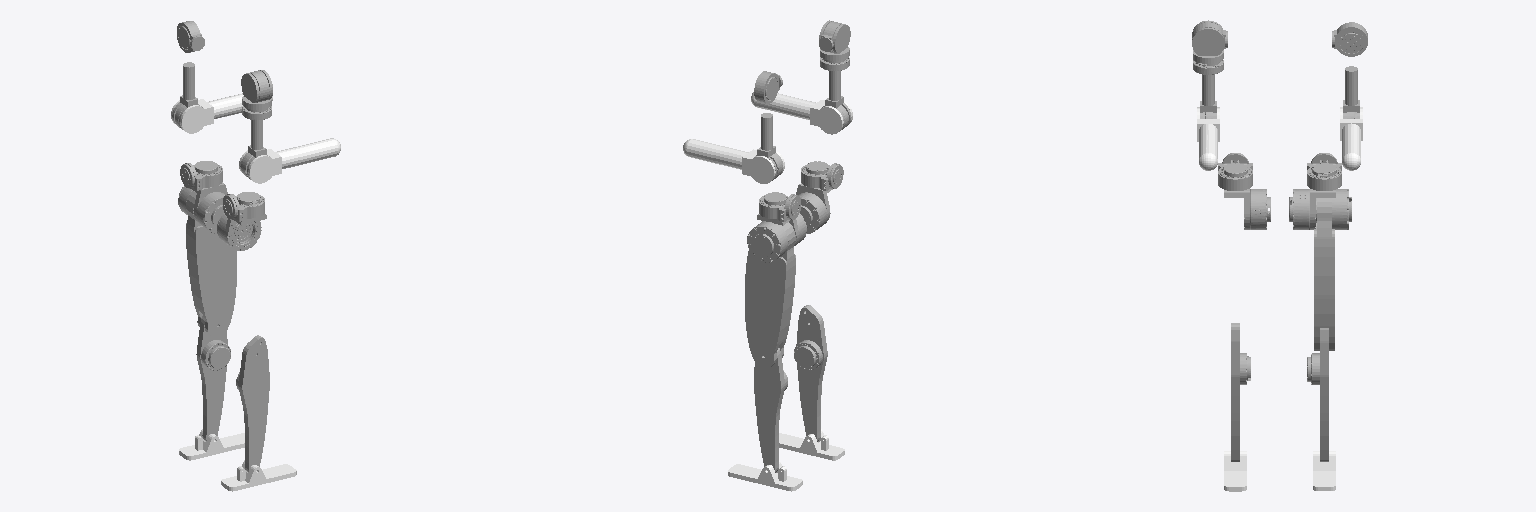
URDF robot description (gh1_description):
<?xml version="1.0" encoding="utf-8"?>
<!-- This URDF was automatically created by SolidWorks to URDF Exporter! Originally created by
[author] ([email redacted]) 
     Commit Version: 1.5.1-0-g916b5db  Build Version: 1.5.7152.31018
     For more information, please see http://wiki.ros.org/sw_urdf_exporter -->
<robot
  name="gh1_description">
  <link name="base">
    <visual>
      <origin rpy="0 0 0" xyz="0 0 0" />
      <geometry>
        <box size="0.001 0.001 0.001" />
      </geometry>
    </visual>
  </link>
  <joint name="floating_base" type="fixed">
    <origin rpy="0 0 0" xyz="0 0 0" />
    <parent link="base" />
    <child link="body" />
  </joint>
  <link name="body">
    <inertial>
      <origin xyz="-0.0088989 -1.3208E-07 0.16344" rpy="0 0 0" />
      <mass value="123.52" />
      <inertia ixx="1.6862" ixy="1.545E-07" ixz="-5.5846E-05" iyy="1.1047" iyz="1.791E-06"
        izz="0.89583" />
    </inertial>
    <visual>
      <origin xyz="0 0 0" rpy="0 0 0" />
      <geometry>
        <mesh filename="../meshes/body.dae" />
      </geometry>
      <material name="">
        <color rgba="0.75294 0.75294 0.75294 1" />
      </material>
    </visual>
    <collision>
      <origin xyz="0 0 0.175" rpy="0 0 0" />
      <geometry> <!-- <mesh filename="../meshes/body.dae" /> -->
        <box size="0.130 0.3 0.35" />
      </geometry>
    </collision>
  </link>
  <link
    name="Left_hip_roll_Link">
    <inertial>
      <origin xyz="0.052165 5.0264E-06 -0.0083836" rpy="0 0 0" />
      <mass value="3.8235" />
      <inertia ixx="0.0033964" ixy="-8.4167E-07" ixz="7.7293E-05" iyy="0.0030826" iyz="6.9531E-08"
        izz="0.0051879" />
    </inertial>
    <visual>
      <origin xyz="0 0 0" rpy="0 0 0" />
      <geometry>
        <mesh filename="../meshes/Left_hip_roll_Link.dae" />
      </geometry>
      <material name="">
        <color rgba="0.75294 0.75294 0.75294 1" />
      </material>
    </visual>
    <collision>
      <origin xyz="0 0 0" rpy="0 0 0" />
      <geometry>
        <!-- <mesh filename="../meshes/Left_hip_roll_Link.dae" /> -->
        <cylinder radius="0.02" length="0.01" />
      </geometry>
    </collision>
  </link>
  <joint
    name="Left_hip_roll_Joint"
    type="revolute">
    <origin
      xyz="-0.054 0.135 -0.17"
      rpy="0 0 0" />
    <parent
      link="body" />
    <child
      link="Left_hip_roll_Link" />
    <axis
      xyz="-1 0 0" />
    <limit
      lower="-3.14"
      upper="3.14"
      effort="50"
      velocity="20" />
  </joint>
  <link
    name="Left_hip_yaw_Link">
    <inertial>
      <origin xyz="-3.1213E-06 -0.05153 -0.072845" rpy="0 0 0" />
      <mass value="6.7642" />
      <inertia ixx="0.010476" ixy="-2.589E-08" ixz="3.2644E-06" iyy="0.015391" iyz="-0.0012055"
        izz="0.0086185" />
    </inertial>
    <visual>
      <origin xyz="0 0 0" rpy="0 0 0" />
      <geometry>
        <mesh filename="../meshes/Left_hip_yaw_Link.dae" />
      </geometry>
      <material name="">
        <color rgba="0.75294 0.75294 0.75294 1" />
      </material>
    </visual>
    <collision>
      <origin xyz="0 0 0" rpy="0 0 0" />
      <geometry>
        <cylinder radius="0.02" length="0.01" />
        <!-- <mesh filename="../meshes/Left_hip_yaw_Link.dae" /> -->
      </geometry>
    </collision>
  </link>
  <joint
    name="Left_hip_yaw_Joint"
    type="revolute">
    <origin
      xyz="0.07 0 -0.03"
      rpy="0 0 0" />
    <parent link="Left_hip_roll_Link" />
    <child link="Left_hip_yaw_Link" />
    <axis xyz="0 0 1" />
    <limit
      lower="-3.14"
      upper="3.14"
      effort="50"
      velocity="20" />
  </joint>
  <link name="Left_hip_pitch_Link">
    <inertial>
      <origin xyz="0.01638 0.034971 -0.15945" rpy="0 0 0" />
      <mass value="33.931" />
      <inertia ixx="0.49131" ixy="-0.00037862" ixz="0.031514" iyy="0.52963" iyz="0.0036852"
        izz="0.060423" />
    </inertial>
    <visual>
      <origin xyz="0 0 0" rpy="0 0 0" />
      <geometry>
        <mesh filename="../meshes/Left_hip_pitch_Link.dae" />
      </geometry>
      <material name="">
        <color rgba="0.75294 0.75294 0.75294 1" />
      </material>
    </visual>
    <collision>
      <origin xyz="0 0.03 -0.2" rpy="0 0 0" />
      <geometry>
        <!-- <mesh filename="../meshes/Left_hip_pitch_Link.dae" /> -->
        <cylinder radius="0.04" length="0.32" />
      </geometry>
    </collision>
  </link>
  <joint name="Left_hip_pitch_Joint" type="revolute">
    <origin xyz="0 -0.0295 -0.087" rpy="0 0 0" />
    <parent link="Left_hip_yaw_Link" />
    <child link="Left_hip_pitch_Link" />
    <axis xyz="0 -1 0" />
    <limit lower="-3.14" upper="3.14" effort="50" velocity="20" />
  </joint>
  <link name="Left_knee_Link">
    <inertial>
      <origin xyz="-0.0017679 -0.005401 -0.15125" rpy="0 0 0" />
      <mass value="7.7671" />
      <inertia ixx="0.095227" ixy="8.8977E-06" ixz="-0.0015087" iyy="0.098977" iyz="-0.0002576"
        izz="0.0046432" />
    </inertial>
    <visual>
      <origin xyz="0 0 0" rpy="0 0 0" />
      <geometry>
        <mesh filename="../meshes/Left_knee_Link.dae" />
      </geometry>
      <material name="">
        <color rgba="0.75294 0.75294 0.75294 1" />
      </material>
    </visual>
    <collision>
      <origin xyz="0 0 -0.2" rpy="0 0 0" />
      <geometry>
        <!-- <mesh filename="../meshes/Left_knee_Link.dae" /> -->
        <cylinder radius="0.02" length="0.3" />
      </geometry>
    </collision>
  </link>
  <joint name="Left_knee_Joint" type="revolute">
    <origin xyz="0.025372 0.0295 -0.41923" rpy="0 0 0" />
    <parent link="Left_hip_pitch_Link" />
    <child link="Left_knee_Link" />
    <axis xyz="0 -1 0" />
    <limit lower="-3.14" upper="3.14" effort="50" velocity="20" />
  </joint>
  <link name="Left_ankle_pitch_Link">
    <inertial>
      <origin xyz="0.015007 5.5511E-17 -0.034161" rpy="0 0 0" />
      <mass value="0.38818" />
      <inertia ixx="0.00024191" ixy="4.7254E-20" ixz="6.7735E-05" iyy="0.0015331" iyz="-1.2705E-20"
        izz="0.0016128" />
    </inertial>
    <visual>
      <origin xyz="0 0 0" rpy="0 0 0" />
      <geometry>
        <mesh filename="../meshes/Left_ankle_pitch_Link.dae" />
      </geometry>
      <material name="">
        <color rgba="1 1 1 1" />
      </material>
    </visual>
    <collision>
      <origin xyz="0.026 0 -0.042" rpy="0 0 0" />
      <geometry>
        <!-- <mesh filename="../meshes/Left_ankle_pitch_Link.dae" /> -->
        <box size="0.25 0.07 0.015" />
      </geometry>
    </collision>
  </link>
  <joint name="Left_ankle_pitch_Joint" type="revolute">
    <origin xyz="-0.012762 0 -0.3998" rpy="0 0 0" />
    <parent link="Left_knee_Link" />
    <child link="Left_ankle_pitch_Link" />
    <axis xyz="0 -1 0" />
    <limit lower="-3.14" upper="3.14" effort="50" velocity="20" />
  </joint>
  <link name="Right_hip_roll_Link">
    <inertial>
      <origin xyz="0.051787 4.9935E-05 -0.0078632" rpy="0 0 0" />
      <mass value="3.7336" />
      <inertia ixx="0.0033514" ixy="2.1818E-07" ixz="7.7728E-05" iyy="0.0030497" iyz="4.1278E-07"
        izz="0.005111" />
    </inertial>
    <visual>
      <origin xyz="0 0 0" rpy="0 0 0" />
      <geometry>
        <mesh filename="../meshes/Right_hip_roll_Link.dae" />
      </geometry>
      <material name="">
        <color rgba="0.75294 0.75294 0.75294 1" />
      </material>
    </visual>
    <collision>
      <origin xyz="0 0 0" rpy="0 0 0" />
      <geometry>
        <!-- <mesh filename="../meshes/Right_hip_roll_Link.dae" /> -->
        <cylinder radius="0.02" length="0.01" />
      </geometry>
    </collision>
  </link>
  <joint name="Right_hip_roll_Joint" type="revolute">
    <origin xyz="-0.054 -0.135 -0.17" rpy="0 0 0" />
    <parent link="body" />
    <child link="Right_hip_roll_Link" />
    <axis xyz="-1 0 0" />
    <limit lower="-3.14" upper="3.14" effort="50" velocity="20" />
  </joint>
  <link
    name="Right_hip_yaw_Link">
    <inertial>
      <origin xyz="-5.8987E-06 0.051084 -0.073371" rpy="0 0 0" />
      <mass value="6.9007" />
      <inertia ixx="0.010615" ixy="5.2209E-08" ixz="2.3171E-06" iyy="0.015657" iyz="0.0012055"
        izz="0.0087469" />
    </inertial>
    <visual>
      <origin xyz="0 0 0" rpy="0 0 0" />
      <geometry>
        <mesh filename="../meshes/Right_hip_yaw_Link.dae" />
      </geometry>
      <material name="">
        <color rgba="0.75294 0.75294 0.75294 1" />
      </material>
    </visual>
    <collision>
      <origin xyz="0 0 0" rpy="0 0 0" />
      <geometry>
        <cylinder radius="0.02" length="0.01" />
        <!-- <mesh filename="../meshes/Right_hip_yaw_Link.dae" /> -->
      </geometry>
    </collision>
  </link>
  <joint name="Right_hip_yaw_Joint" type="revolute">
    <origin xyz="0.07 0 -0.02975" rpy="0 0 0" />
    <parent link="Right_hip_roll_Link" />
    <child link="Right_hip_yaw_Link" />
    <axis xyz="0 0 -1" />
    <limit lower="-3.14" upper="3.14" effort="50" velocity="20" />
  </joint>
  <link
    name="Right_hip_pitch_Link">
    <inertial>
      <origin xyz="0.015706 -0.03447 -0.15952" rpy="0 0 0" />
      <mass value="33.93" />
      <inertia ixx="0.49156" ixy="0.00036304" ixz="0.029708" iyy="0.52963" iyz="-0.0036869"
        izz="0.060165" />
    </inertial>
    <visual>
      <origin xyz="0 0 0" rpy="0 0 0" />
      <geometry>
        <mesh filename="../meshes/Right_hip_pitch_Link.dae" />
      </geometry>
      <material name="">
        <color rgba="0.75294 0.75294 0.75294 1" />
      </material>
    </visual>
    <collision>
      <origin xyz="0 -0.03 -0.2" rpy="0 0 0" />
      <geometry>
        <!-- <mesh filename="../meshes/Left_hip_pitch_Link.dae" /> -->
        <cylinder radius="0.04" length="0.32" />
      </geometry>
    </collision>
  </link>
  <joint name="Right_hip_pitch_Joint" type="revolute">
    <origin xyz="0 0.029 -0.08725" rpy="0 0 0" />
    <parent link="Right_hip_yaw_Link" />
    <child link="Right_hip_pitch_Link" />
    <axis xyz="0 1 0" />
    <limit lower="-3.14" upper="3.14" effort="50" velocity="20" />
  </joint>
  <link name="Right_knee_Link">
    <inertial>
      <origin xyz="-0.00099117 0.0042483 -0.15105" rpy="0 0 0" />
      <mass value="7.7671" />
      <inertia ixx="0.095252" ixy="-1.0707E-05" ixz="-0.0010377" iyy="0.098988" iyz="0.00025675"
        izz="0.0046277" />
    </inertial>
    <visual>
      <origin xyz="0 0 0" rpy="0 0 0" />
      <geometry>
        <mesh filename="../meshes/Right_knee_Link.dae" />
      </geometry>
      <material name="">
        <color rgba="0.75294 0.75294 0.75294 1" />
      </material>
    </visual>
    <collision>
      <origin xyz="0 0 -0.2" rpy="0 0 0" />
      <geometry>
        <cylinder radius="0.02" length="0.3" />
        <!-- <mesh filename="../meshes/Right_knee_Link.dae" /> -->
      </geometry>
    </collision>
  </link>
  <joint name="Right_knee_Joint" type="revolute">
    <origin xyz="0.023604 -0.029 -0.41934" rpy="0 0 0" />
    <parent link="Right_hip_pitch_Link" />
    <child link="Right_knee_Link" />
    <axis xyz="0 -1 0" />
    <limit lower="-3.14" upper="3.14" effort="50" velocity="20" />
  </joint>
  <link name="Right_ankle_pitch_Link">
    <inertial>
      <origin xyz="0.015007 -4.1616E-15 -0.034161" rpy="0 0 0" />
      <mass value="0.38818" />
      <inertia ixx="0.00024191" ixy="-1.9066E-19" ixz="6.7735E-05" iyy="0.0015331" iyz="-1.3234E-20"
        izz="0.0016128" />
    </inertial>
    <visual>
      <origin xyz="0 0 0" rpy="0 0 0" />
      <geometry>
        <mesh filename="../meshes/Right_ankle_pitch_Link.dae" />
      </geometry>
      <material name="">
        <color rgba="1 1 1 1" />
      </material>
    </visual>
    <collision>
      <origin xyz="0.026 0 -0.042" rpy="0 0 0" />
      <geometry>
        <!-- <mesh filename="../meshes/Left_ankle_pitch_Link.dae" /> -->
        <box size="0.25 0.07 0.015" />
      </geometry>
    </collision>
  </link>
  <joint name="Right_ankle_pitch_Joint" type="revolute">
    <origin xyz="-0.010661 0 -0.39986" rpy="0 0 0" />
    <parent link="Right_knee_Link" />
    <child link="Right_ankle_pitch_Link" />
    <axis xyz="0 -1 0" />
    <limit lower="-3.14" upper="3.14" effort="50" velocity="20" />
  </joint>
  <link name="Left_shoulder_pitch_Link">
    <inertial>
      <origin xyz="0.0021111 0.058287 7.4495E-05" rpy="0 0 0" />
      <mass value="2.3981" />
      <inertia ixx="0.0036404" ixy="-1.2323E-07" ixz="-4.1293E-07" iyy="0.0017935" iyz="1.7725E-06"
        izz="0.0022023" />
    </inertial>
    <visual>
      <origin xyz="0 0 0" rpy="0 0 0" />
      <geometry>
        <mesh filename="../meshes/Left_shoulder_pitch_Link.dae" />
      </geometry>
      <material name="">
        <color rgba="0.75294 0.75294 0.75294 1" />
      </material>
    </visual>
    <collision>
      <origin xyz="0 0.062 0" rpy="0 1.57 0" />
      <geometry>
        <!-- <mesh filename="../meshes/Right_shoulder_pitch_Link.dae" /> -->
        <cylinder radius="0.05" length="0.0372" />
      </geometry>
    </collision>
  </link>
  <joint name="Left_shoulder_pitch_Joint" type="revolute">
    <origin
      xyz="0 0.155 0.275"
      rpy="0 0 0" />
    <parent
      link="body" />
    <child
      link="Left_shoulder_pitch_Link" />
    <axis
      xyz="0 1 0" />
    <limit lower="-3.14" upper="3.14" effort="50" velocity="20" />
  </joint>
  <link name="Left_shoulder_roll_Link">
    <inertial>
      <origin xyz="-0.016456 -2.2787E-05 -0.046307" rpy="0 0 0" />
      <mass value="3.8443" />
      <inertia ixx="0.0045757" ixy="-2.5873E-06" ixz="3.7349E-07" iyy="0.0045261" iyz="-2.1496E-07"
        izz="0.0044269" />
    </inertial>
    <visual>
      <origin xyz="0 0 0" rpy="0 0 0" />
      <geometry>
        <mesh filename="../meshes/Left_shoulder_roll_Link.dae" />
      </geometry>
      <material name="">
        <color rgba="0.75294 0.75294 0.75294 1" />
      </material>
    </visual>
    <collision>
      <origin xyz="-0.016 0 -0.07" rpy="0 0 0" />
      <geometry>
        <!-- <mesh filename="../meshes/Right_shoulder_roll_Link.dae" /> -->
        <cylinder radius="0.049" length="0.05" />
      </geometry>
    </collision>
  </link>
  <joint name="Left_shoulder_roll_Joint" type="revolute">
    <origin xyz="0.0165 0.0625 0" rpy="0 0 0" />
    <parent link="Left_shoulder_pitch_Link" />
    <child link="Left_shoulder_roll_Link" />
    <axis
      xyz="1 0 0" />
    <limit
      lower="-3.14"
      upper="3.14"
      effort="50"
      velocity="20" />
  </joint>
  <link
    name="Left_shoulder_yaw_Link">
    <inertial>
      <origin xyz="-5.7035E-05 -0.00091634 -0.13346" rpy="0 0 0" />
      <mass value="3.172" />
      <inertia ixx="0.0068554" ixy="-4.0763E-07" ixz="1.7853E-06" iyy="0.0077293" iyz="-1.3975E-07"
        izz="0.0016253" />
    </inertial>
    <visual>
      <origin xyz="0 0 0" rpy="0 0 0" />
      <geometry>
        <mesh filename="../meshes/Left_shoulder_yaw_Link.dae" />
      </geometry>
      <material name="">
        <color rgba="0.75294 0.75294 0.75294 1" />
      </material>
    </visual>
    <collision>
      <origin xyz="0 0 -0.059" rpy="0 0 0" />
      <geometry>
        <cylinder radius="0.02" length="0.1" />
        <!-- <mesh filename="../meshes/Right_shoulder_yaw_Link.dae" /> -->
      </geometry>
    </collision>
  </link>
  <joint name="Left_shoulder_yaw_Joint" type="revolute">
    <origin xyz="-0.0165 0 -0.0965" rpy="0 0 0" />
    <parent link="Left_shoulder_roll_Link" />
    <child link="Left_shoulder_yaw_Link" />
    <axis xyz="0 0 1" />
    <limit lower="-3.14" upper="3.14" effort="50" velocity="20" />
  </joint>
  <link name="Left_elbow_pitch_Link">
    <inertial>
      <origin xyz="0.13853 0.015001 2.9055E-08" rpy="0 0 0" />
      <mass value="0.88449" />
      <inertia ixx="0.00056951" ixy="-6.3677E-08" ixz="-2.8529E-09" iyy="0.0077194"
        iyz="-2.6888E-10" izz="0.0077768" />
    </inertial>
    <visual>
      <origin xyz="0 0 0" rpy="0 0 0" />
      <geometry>
        <mesh filename="../meshes/Left_elbow_pitch_Link.dae" />
      </geometry>
      <material name="">
        <color rgba="1 1 1 1" />
      </material>
    </visual>
    <collision>
      <origin xyz="0.17 0.015 0" rpy="0 1.57 0" />
      <geometry>
        <!-- <mesh filename="../meshes/Right_elbow_pitch_Link.dae" /> -->
        <cylinder radius="0.032" length="0.01" />
      </geometry>
    </collision>
  </link>
  <joint name="Left_elbow_pitch_Joint" type="revolute">
    <origin
      xyz="0 -0.015 -0.182"
      rpy="0 0 0" />
    <parent link="Left_shoulder_yaw_Link" />
    <child link="Left_elbow_pitch_Link" />
    <axis xyz="0 1 0" />
    <limit lower="-3.14" upper="3.14" effort="50" velocity="20" />
  </joint>
  <link name="Right_shoulder_pitch_Link">
    <inertial>
      <origin xyz="0.0021111 -0.05828 7.6437E-05" rpy="0 0 0" />
      <mass value="2.3981" />
      <inertia ixx="0.0036404" ixy="1.2004E-07" ixz="-4.1386E-07" iyy="0.0017933" iyz="-1.539E-06"
        izz="0.0022024" />
    </inertial>
    <visual>
      <origin xyz="0 0 0" rpy="0 0 0" />
      <geometry>
        <mesh filename="../meshes/Right_shoulder_pitch_Link.dae" />
      </geometry>
      <material name="">
        <color rgba="0.75294 0.75294 0.75294 1" />
      </material>
    </visual>
    <collision>
      <origin xyz="0 -0.062 0" rpy="0 1.57 0" />
      <geometry>
        <!-- <mesh filename="../meshes/Right_shoulder_pitch_Link.dae" /> -->
        <cylinder radius="0.05" length="0.0372" />
      </geometry>
    </collision>
  </link>
  <joint name="Right_shoulder_pitch_Joint" type="revolute">
    <origin xyz="0 -0.155 0.275" rpy="0 0 0" />
    <parent link="body" />
    <child link="Right_shoulder_pitch_Link" />
    <axis xyz="0 1 0" />
    <limit lower="-3.14" upper="3.14" effort="50" velocity="20" />
  </joint>
  <link name="Right_shoulder_roll_Link">
    <inertial>
      <origin xyz="-0.016543 2.4614E-05 -0.046307" rpy="0 0 0" />
      <mass value="3.8443" />
      <inertia ixx="0.0045755" ixy="-2.7168E-06" ixz="-3.6402E-07" iyy="0.0045264" iyz="2.3062E-07"
        izz="0.0044269" />
    </inertial>
    <visual>
      <origin xyz="0 0 0" rpy="0 0 0" />
      <geometry>
        <mesh filename="../meshes/Right_shoulder_roll_Link.dae" />
      </geometry>
      <material name="">
        <color rgba="0.75294 0.75294 0.75294 1" />
      </material>
    </visual>
    <collision>
      <origin xyz="-0.016 0 -0.07" rpy="0 0 0" />
      <geometry>
        <!-- <mesh filename="../meshes/Right_shoulder_roll_Link.dae" /> -->
        <cylinder radius="0.049" length="0.05" />
      </geometry>
    </collision>
  </link>
  <joint
    name="Right_shoulder_roll_Joint"
    type="revolute">
    <origin
      xyz="0.0165 -0.0625 0" rpy="0 0 0" />
    <parent link="Right_shoulder_pitch_Link" />
    <child link="Right_shoulder_roll_Link" />
    <axis
      xyz="-1 0 0" />
    <limit
      lower="-3.14"
      upper="3.14"
      effort="50"
      velocity="20" />
  </joint>
  <link
    name="Right_shoulder_yaw_Link">
    <inertial>
      <origin xyz="3.2291E-05 0.00091635 -0.13399" rpy="0 0 0" />
      <mass value="3.172" />
      <inertia ixx="0.0068516" ixy="-2.1917E-07" ixz="-2.7345E-06" iyy="0.0077293" iyz="3.7103E-07"
        izz="0.0016291" />
    </inertial>
    <visual>
      <origin xyz="0 0 0" rpy="0 0 0" />
      <geometry>
        <mesh filename="../meshes/Right_shoulder_yaw_Link.dae" />
      </geometry>
      <material name="">
        <color rgba="0.75294 0.75294 0.75294 1" />
      </material>
    </visual>
    <collision>
      <origin xyz="0 0 -0.059" rpy="0 0 0" />
      <geometry>
        <cylinder radius="0.02" length="0.1" />
        <!-- <mesh filename="../meshes/Right_shoulder_yaw_Link.dae" /> -->
      </geometry>
    </collision>
  </link>
  <joint
    name="Right_shoulder_yaw_Joint"
    type="revolute">
    <origin
      xyz="-0.0165 0 -0.0965"
      rpy="0 0 0" />
    <parent
      link="Right_shoulder_roll_Link" />
    <child
      link="Right_shoulder_yaw_Link" />
    <axis
      xyz="0 0 1" />
    <limit
      lower="-3.14"
      upper="3.14"
      effort="50"
      velocity="20" />
  </joint>
  <link
    name="Right_elbow_pitch_Link">
    <inertial>
      <origin xyz="0.13853 -0.015001 -2.9055E-08" rpy="0 0 0" />
      <mass value="0.88449" />
      <inertia ixx="0.00056951" ixy="6.3677E-08" ixz="2.8529E-09" iyy="0.0077194" iyz="-2.6888E-10"
        izz="0.0077768" />
    </inertial>
    <visual>
      <origin xyz="0 0 0" rpy="0 0 0" />
      <geometry>
        <mesh filename="../meshes/Right_elbow_pitch_Link.dae" />
      </geometry>
      <material name="">
        <color rgba="1 1 1 1" />
      </material>
    </visual>
    <collision>
      <origin xyz="0.17 -0.015 0" rpy="0 1.57 0" />
      <geometry>
        <!-- <mesh filename="../meshes/Right_elbow_pitch_Link.dae" /> -->
        <cylinder radius="0.032" length="0.01" />
      </geometry>
    </collision>
  </link>
  <joint name="Right_elbow_pitch_Joint" type="revolute">
    <origin xyz="0 0.015 -0.1825" rpy="0 0 0" />
    <parent link="Right_shoulder_yaw_Link" />
    <child link="Right_elbow_pitch_Link" />
    <axis xyz="0 -1 0" />
    <limit
      lower="-3.14"
      upper="3.14"
      effort="50"
      velocity="20" />
  </joint>
</robot>

--- Render facts (derived) ---
The picture shows the robot from 3 angles, left to right: view 1: azimuth 30°, elevation 25°; view 2: azimuth 150°, elevation 25°; view 3: azimuth 270°, elevation 25°; orthographic projection.
Model gh1_description with 20 links and 19 joints (18 revolute, 1 fixed), rooted at base, posed all joints at 0.
Visible links, largest first — view 1: Left_hip_pitch_Link, Right_knee_Link, Left_knee_Link, Right_elbow_pitch_Link, Left_elbow_pitch_Link, Right_hip_yaw_Link, Right_ankle_pitch_Link, Left_hip_yaw_Link, Left_ankle_pitch_Link, Right_shoulder_roll_Link, Left_hip_roll_Link, Right_hip_roll_Link (+3 smaller); view 2: Left_hip_pitch_Link, Right_knee_Link, Left_knee_Link, Left_elbow_pitch_Link, Right_elbow_pitch_Link, Left_ankle_pitch_Link, Right_hip_yaw_Link, Right_ankle_pitch_Link, Right_shoulder_roll_Link, Right_hip_roll_Link, Left_hip_roll_Link, Left_shoulder_yaw_Link (+2 smaller); view 3: Left_hip_pitch_Link, Left_knee_Link, Right_knee_Link, Right_shoulder_roll_Link, Left_hip_yaw_Link, Right_hip_yaw_Link, Left_hip_roll_Link, Right_hip_roll_Link, Right_elbow_pitch_Link, Left_elbow_pitch_Link, Left_shoulder_pitch_Link, Right_ankle_pitch_Link (+3 smaller).
Boxes of the visible links, x1,y1,x2,y2 form: Left_hip_pitch_Link: (178, 186, 236, 336); Right_knee_Link: (236, 335, 269, 472); Left_knee_Link: (196, 316, 230, 440); Right_elbow_pitch_Link: (239, 138, 340, 183); Left_elbow_pitch_Link: (171, 93, 272, 133); Right_hip_yaw_Link: (217, 213, 266, 250); Right_ankle_pitch_Link: (221, 460, 296, 491); Left_hip_yaw_Link: (192, 182, 227, 233); Left_ankle_pitch_Link: (179, 429, 244, 460); Right_shoulder_roll_Link: (241, 70, 272, 119); Left_hip_roll_Link: (180, 161, 222, 190); Right_hip_roll_Link: (223, 192, 264, 221); Left_hip_pitch_Link: (745, 221, 795, 368); Right_knee_Link: (794, 305, 827, 441); Left_knee_Link: (754, 348, 787, 472); Left_elbow_pitch_Link: (683, 139, 784, 183); Right_elbow_pitch_Link: (751, 92, 852, 134); Left_ankle_pitch_Link: (728, 460, 802, 491); Right_hip_yaw_Link: (796, 183, 832, 233); Right_ankle_pitch_Link: (779, 429, 844, 460); Right_shoulder_roll_Link: (819, 20, 850, 70); Right_hip_roll_Link: (801, 161, 843, 190); Left_hip_roll_Link: (759, 192, 800, 221); Left_shoulder_yaw_Link: (756, 113, 782, 180); Left_hip_pitch_Link: (1314, 189, 1351, 350); Left_knee_Link: (1307, 328, 1328, 461); Right_knee_Link: (1231, 323, 1250, 461); Right_shoulder_roll_Link: (1192, 20, 1224, 74); Left_hip_yaw_Link: (1289, 189, 1335, 229); Right_hip_yaw_Link: (1224, 189, 1270, 229); Left_hip_roll_Link: (1307, 153, 1341, 190); Right_hip_roll_Link: (1218, 153, 1252, 190); Right_elbow_pitch_Link: (1197, 107, 1219, 170); Left_elbow_pitch_Link: (1340, 107, 1362, 170); Left_shoulder_pitch_Link: (1332, 22, 1367, 56); Right_ankle_pitch_Link: (1224, 451, 1246, 491).
Bounding box of the posed robot: 0.3764 × 0.535 × 1.48 m (x, y, z).
16 mesh visuals loaded from 19 distinct referenced files (16 Collada DAE); not drawn: 3 (reference not matched to a file when rendering).